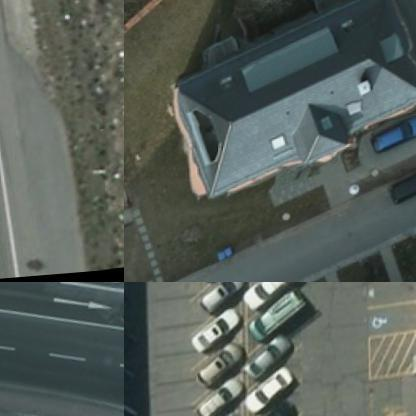car: (250, 291, 312, 338), (188, 308, 250, 355), (192, 345, 254, 392), (247, 338, 308, 385), (245, 372, 308, 415), (193, 282, 256, 321), (242, 282, 305, 317), (193, 380, 256, 415), (376, 126, 415, 158), (252, 402, 315, 415), (392, 181, 415, 210), (198, 405, 261, 415), (77, 282, 123, 293)
